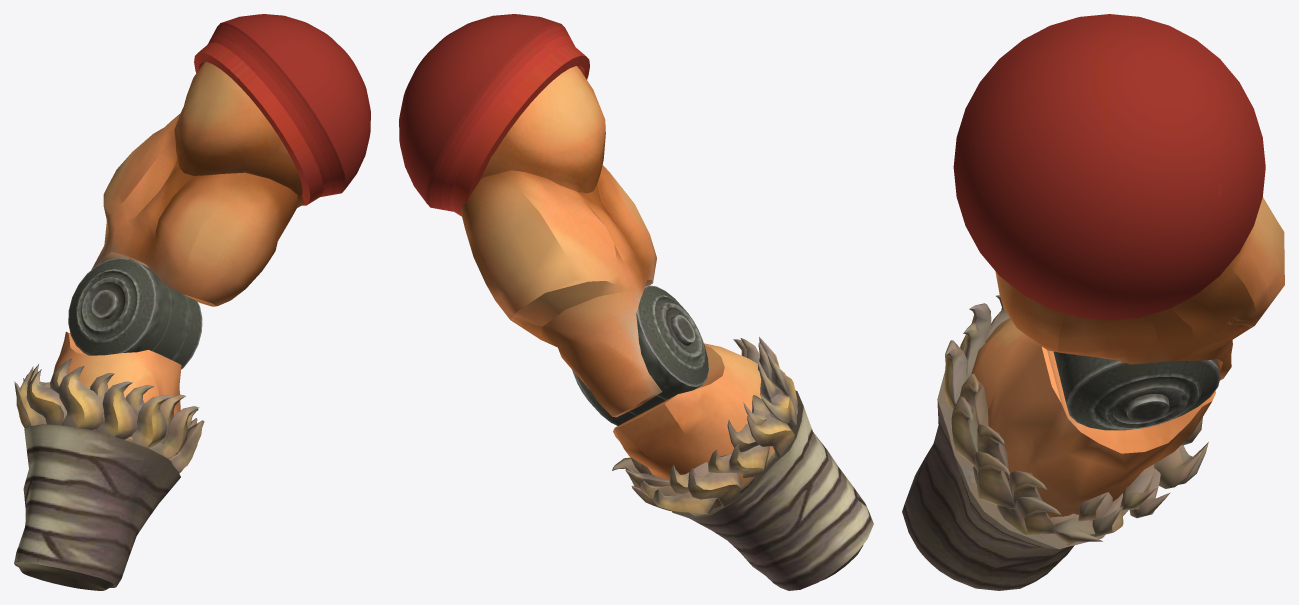
File: armR.fbx
3 renders of one model, left to right at view 1: azimuth 30°, elevation 25°; view 2: azimuth 150°, elevation 25°; view 3: azimuth 270°, elevation 25°, orthographic. The views are drawn at different scales.
Parts seen in each view (by area): view 1: matte_0.006, matte_1.004, submetalic_0.002; view 2: matte_0.006, matte_1.004, submetalic_0.002; view 3: matte_0.006, matte_1.004, submetalic_0.002.
Boxes of the visible parts, x1,y1,x2,y2 form: matte_0.006: [91, 14, 370, 306]; matte_1.004: [14, 331, 204, 590]; submetalic_0.002: [68, 257, 202, 369]; matte_0.006: [399, 14, 662, 417]; matte_1.004: [612, 337, 873, 590]; submetalic_0.002: [572, 285, 708, 425]; matte_0.006: [953, 14, 1284, 380]; matte_1.004: [902, 295, 1215, 590]; submetalic_0.002: [1053, 351, 1220, 430].
Bounding box in the file's own units: 1123 × 670 × 1385.
1 material, 1 textured.
